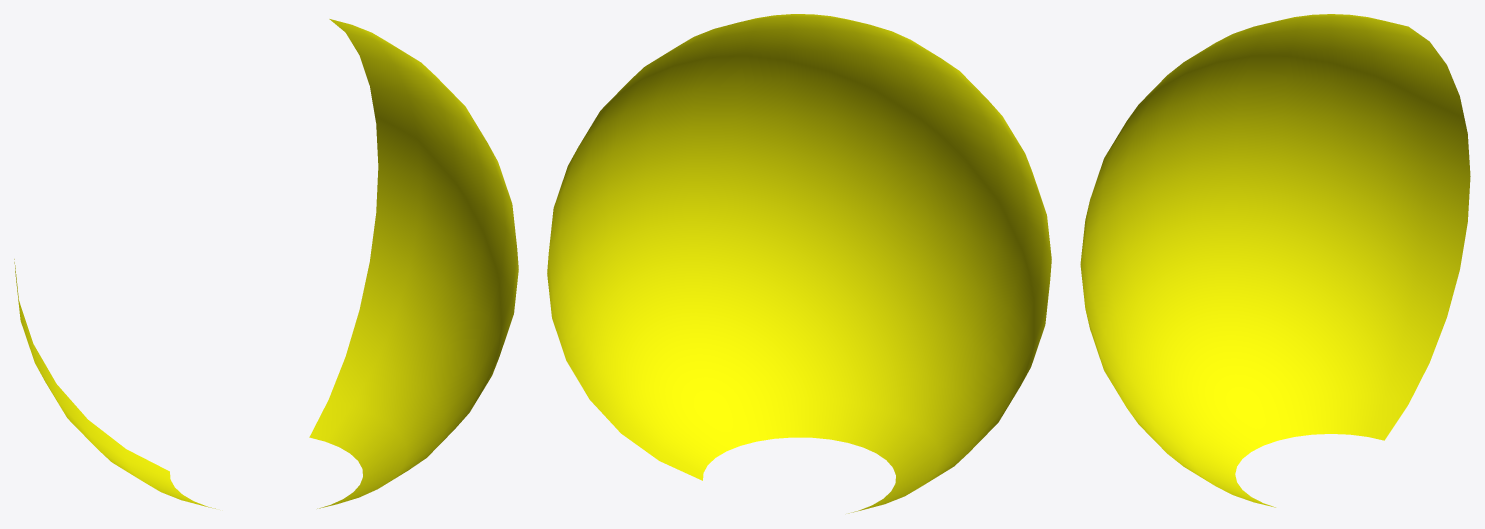
The model's file is Shield.glb.
3 renders of one model, left to right at view 1: azimuth 30°, elevation 25°; view 2: azimuth 150°, elevation 25°; view 3: azimuth 270°, elevation 25°, orthographic.
Visible parts, largest first — view 1: Sphere001; view 2: Sphere001; view 3: Sphere001.
Boxes of the visible parts, bbox=[...] form: Sphere001: bbox=[14, 19, 518, 508]; Sphere001: bbox=[547, 14, 1051, 513]; Sphere001: bbox=[1080, 14, 1470, 507].
Bounding box in the file's own units: 1.4 × 1.34 × 1.09.
1 material, 1 textured.
